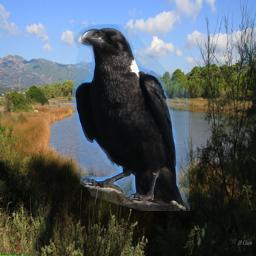Crow: (72, 24, 190, 211)
